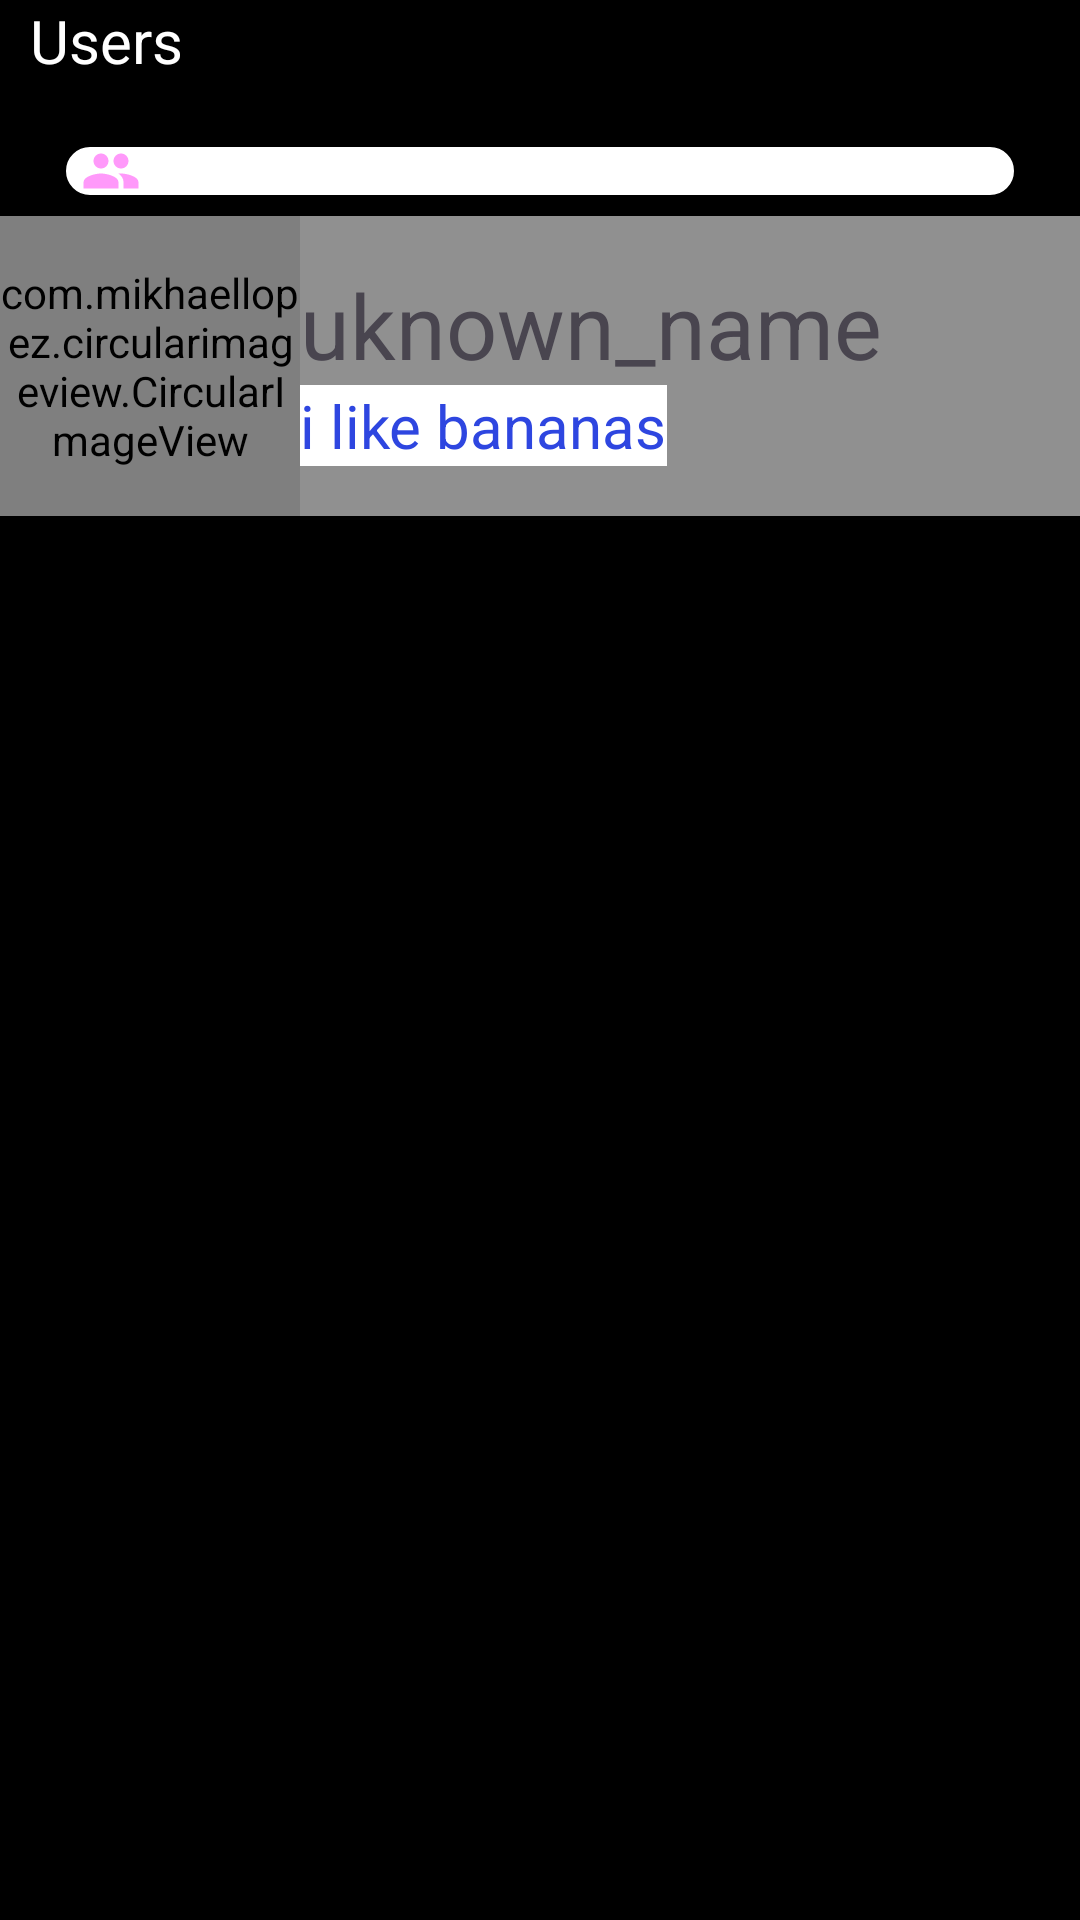

Screen size 1080×1920. Icon name, then its box in pixels as bbox(x1, y1, x2, y2):
people: bbox(75, 147, 147, 195)
